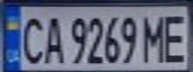2: (84, 12, 106, 65)
6: (103, 12, 124, 64)
9: (118, 12, 142, 64), (66, 12, 87, 65)
A: (39, 12, 66, 65)
C: (15, 11, 48, 65)
E: (160, 10, 193, 63)
M: (139, 11, 172, 64)
